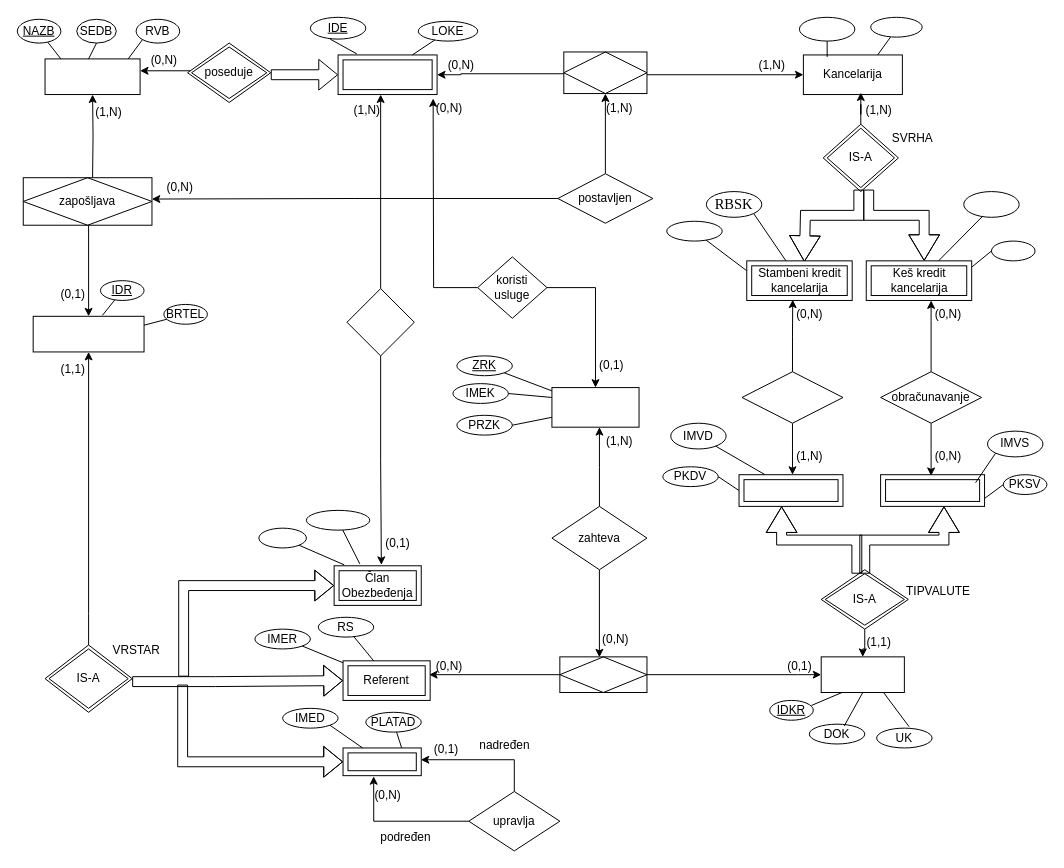
This 1064x868 diagram has some shape labels left out. The shapes that lost their labels are listed below. From the top down, each one's box as (x1, y1, x2, y2) in pixels, then its label:
(798, 16, 855, 41): BRK
(870, 16, 922, 37): KVK
(44, 58, 140, 95): Banka
(337, 54, 437, 95): Ekspozitura
(563, 51, 647, 94): sadrži
(963, 191, 1019, 217): RBKK
(666, 220, 722, 241): BRSK
(990, 240, 1035, 261): BRKK
(32, 315, 144, 352): Radnik
(346, 288, 414, 356): čuva
(551, 387, 639, 427): Klijent
(741, 371, 843, 423): obrađivanje
(738, 474, 843, 506): Domaća valuta
(880, 474, 985, 506): Strana valuta
(258, 527, 306, 548): IMEO
(305, 509, 370, 530): SMENAO
(559, 656, 647, 693): izda
(820, 656, 904, 693): Kredit
(342, 747, 421, 776): Direktor
